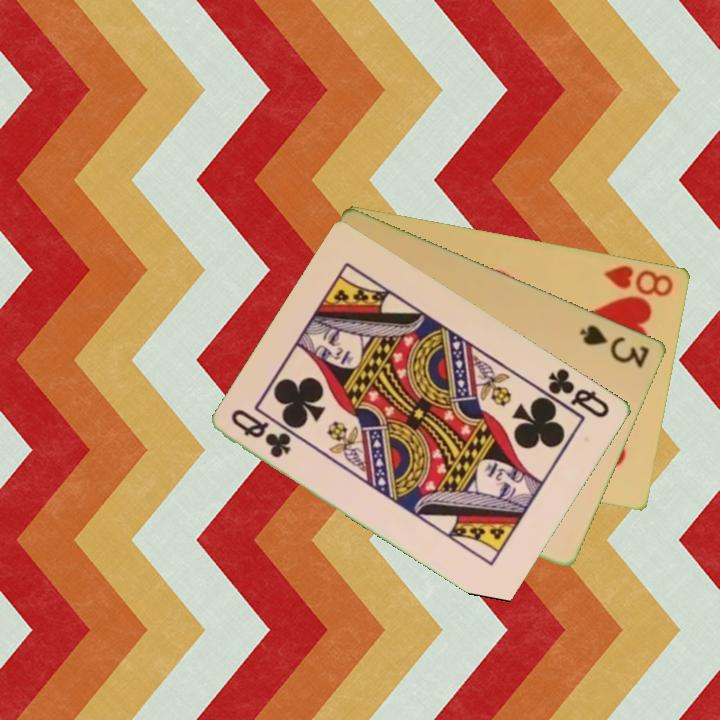3s: (576, 320, 653, 371)
8h: (600, 261, 677, 299)
Qc: (536, 364, 613, 421), (228, 405, 295, 461)
